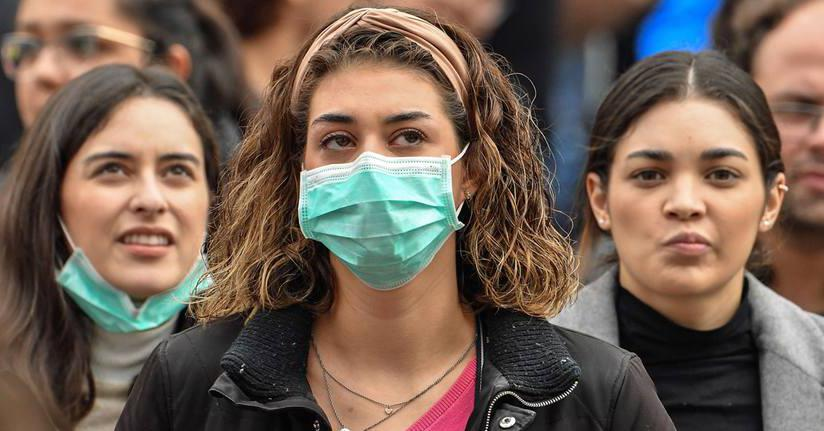mask_weared_incorrect: (61, 144, 207, 331)
with_mask: (301, 105, 444, 282)
without_mask: (611, 140, 753, 294), (10, 14, 136, 127), (770, 59, 824, 230)
